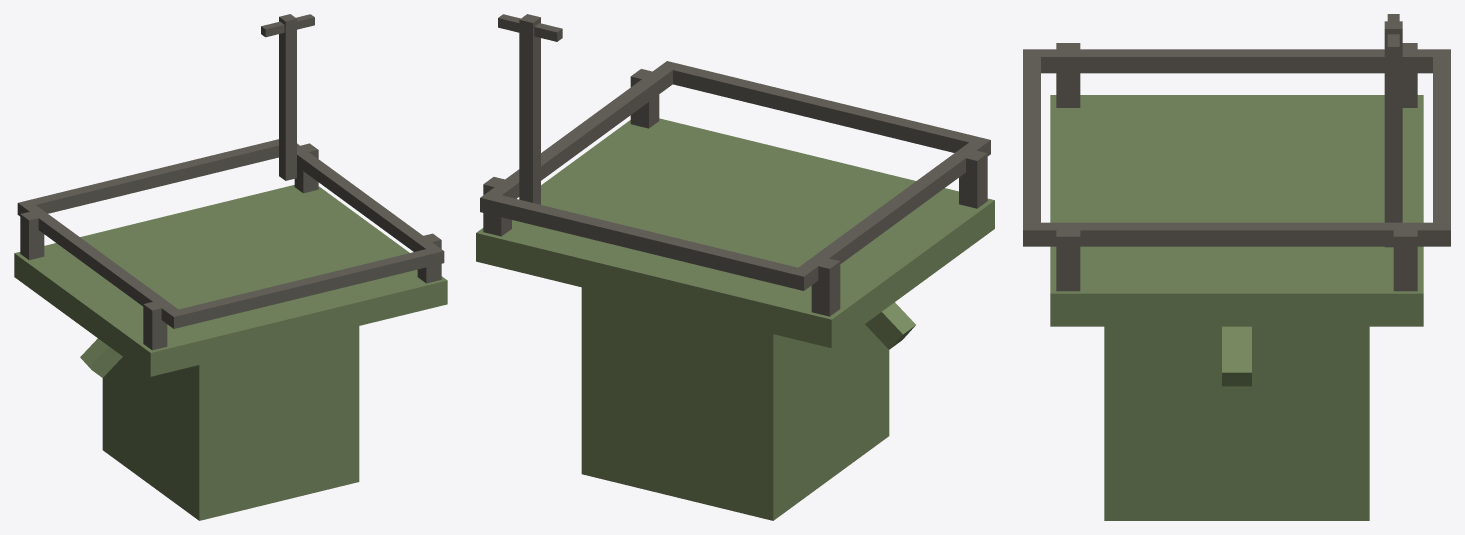
The model's file is tower_platform.glb.
3 renders of one model, left to right at view 1: azimuth 30°, elevation 25°; view 2: azimuth 150°, elevation 25°; view 3: azimuth 270°, elevation 25°, orthographic. The views are drawn at different scales.
Visible parts, largest first — view 1: TowerPlatform, accent_TowerPlatform; view 2: TowerPlatform, accent_TowerPlatform; view 3: TowerPlatform, accent_TowerPlatform.
Boxes of the visible parts, x1,y1,x2,y2 form: TowerPlatform: (14, 185, 447, 520); accent_TowerPlatform: (17, 14, 444, 350); TowerPlatform: (476, 118, 994, 520); accent_TowerPlatform: (480, 14, 990, 316); TowerPlatform: (1050, 95, 1423, 520); accent_TowerPlatform: (1023, 14, 1450, 291).
Bounding box in the file's own units: 0.78 × 0.95 × 0.71.
